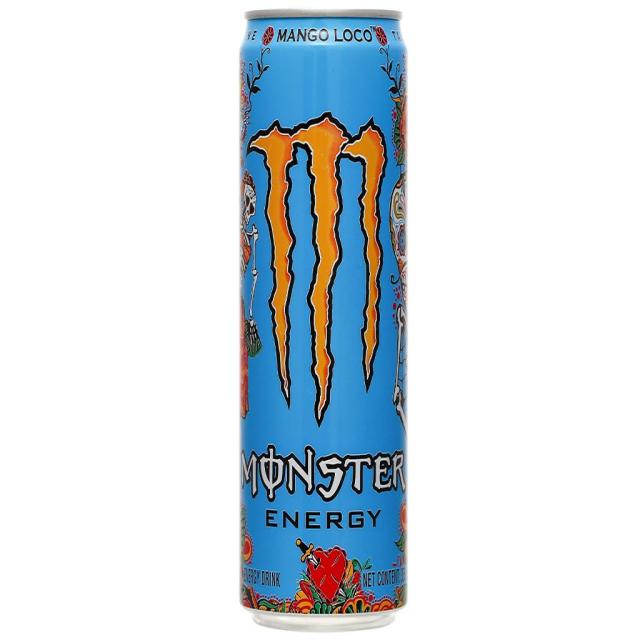Cans: (230, 7, 423, 635)
